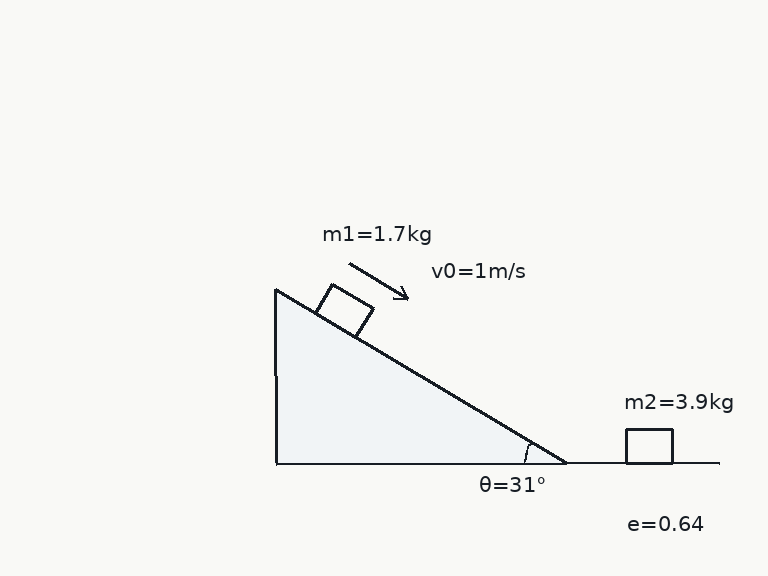block: (313, 282, 374, 339), (624, 427, 674, 465)
ramp: (273, 287, 567, 465)
